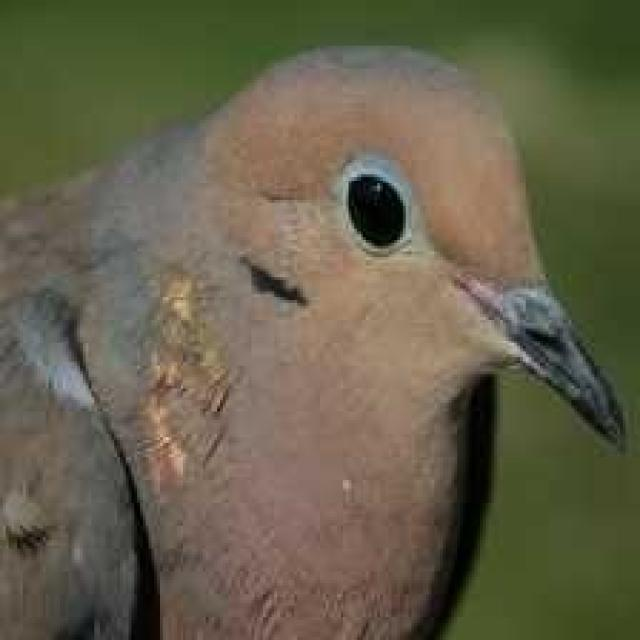dove: (0, 35, 633, 638)
